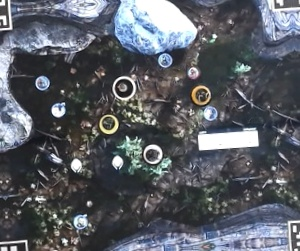black: (111, 74, 136, 99)
lime_green_violet: (96, 111, 121, 135)
white: (141, 143, 165, 167)
yellow_night_blue: (191, 82, 215, 106)
